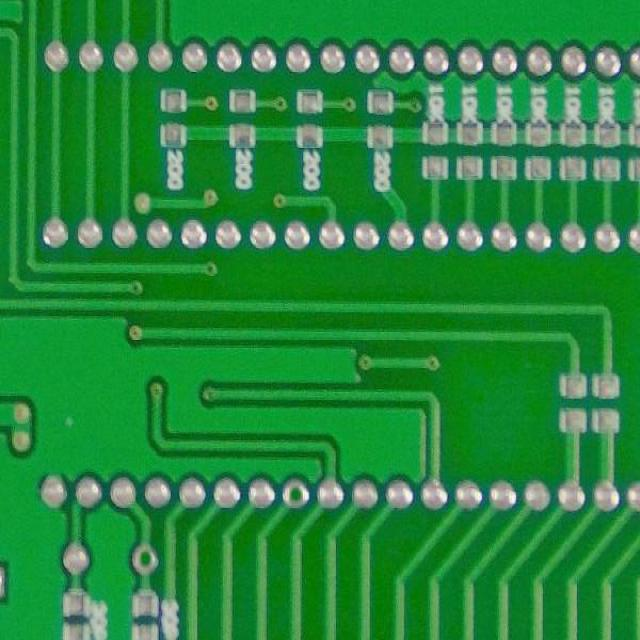missing hole: (275, 473, 317, 518), (130, 539, 161, 588)
